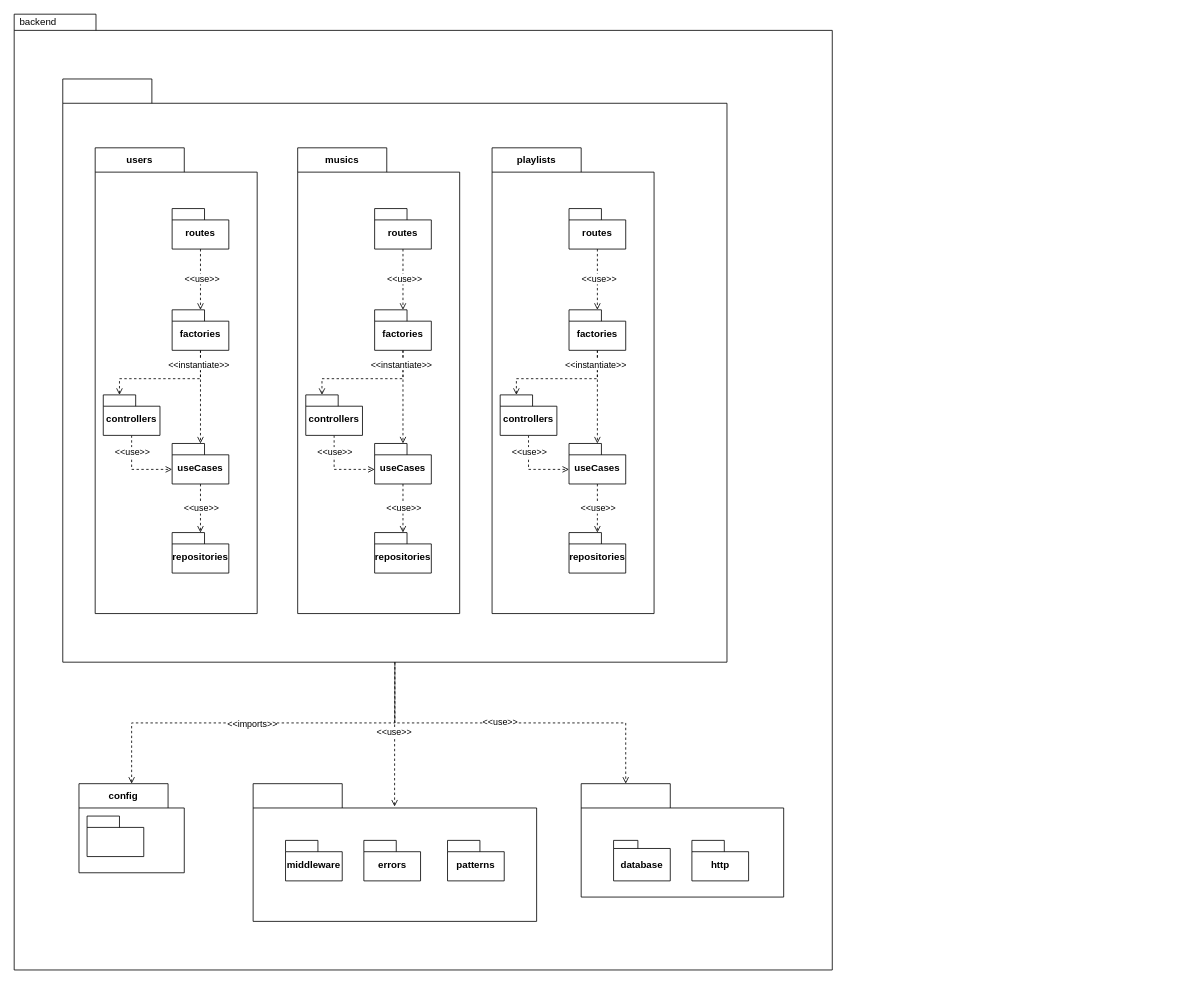
The diagram is 1195 pixels wide and 984 high, and some of its shapes have lost their labels. The shapes that lost their labels are listed below. From the top down, each one's box as (x1, y1, x2, y2) in pixels, then its label:
(62, 78, 727, 662): modules
(86, 815, 144, 857): env
(252, 783, 537, 921): shared
(580, 783, 784, 897): infra
